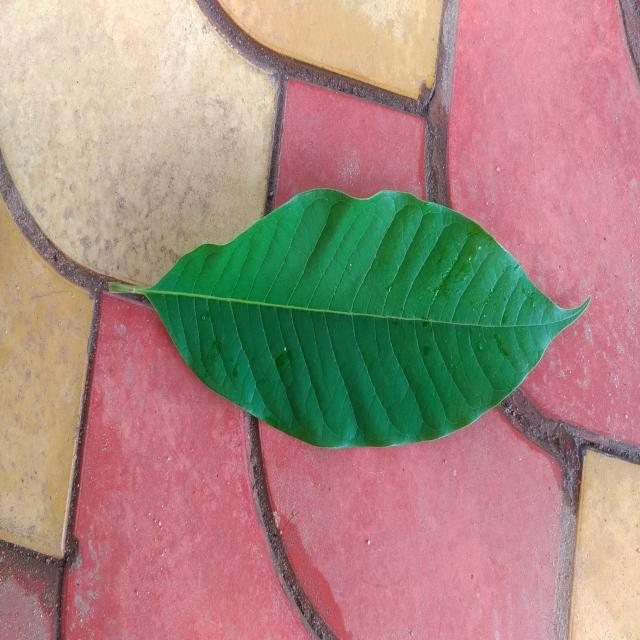coffee: (110, 189, 589, 447)
